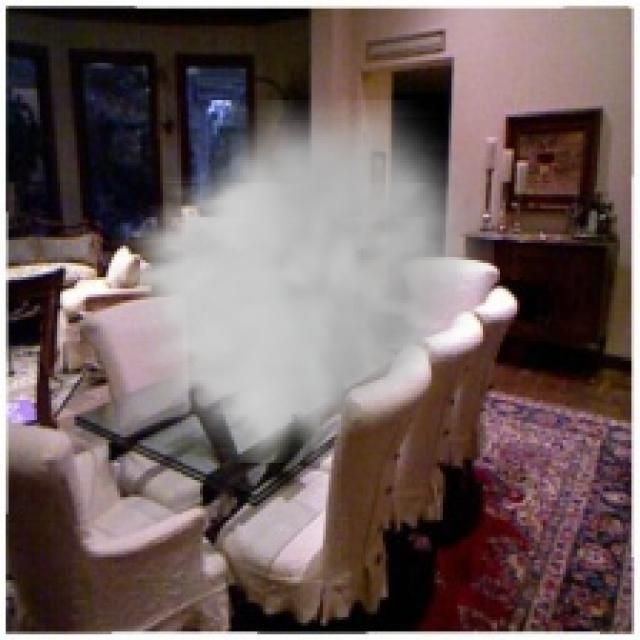Smoke: (112, 100, 494, 463)
